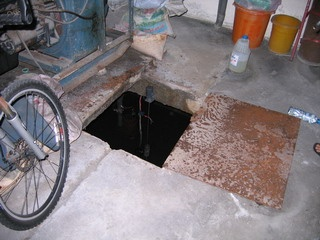bottle: (228, 35, 250, 74), (287, 106, 320, 124)
bucket: (230, 1, 275, 49), (268, 14, 302, 55)
